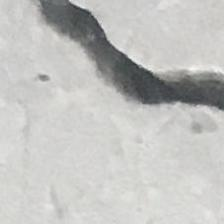Crack: (39, 0, 224, 160)
